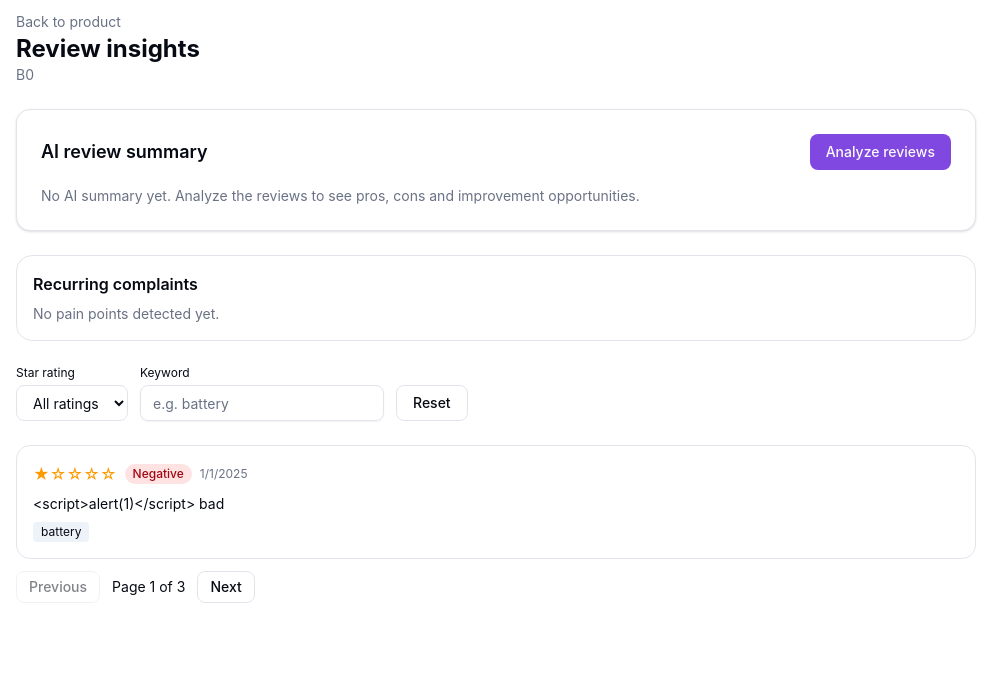
ReviewsPage › analyze flow renders the summary and switches to Re-analyze
What coordinates should you click on to do the following:
click the button "Analyze reviews"
I would click on:
 (880, 152)
Its box is [810,134,951,170].
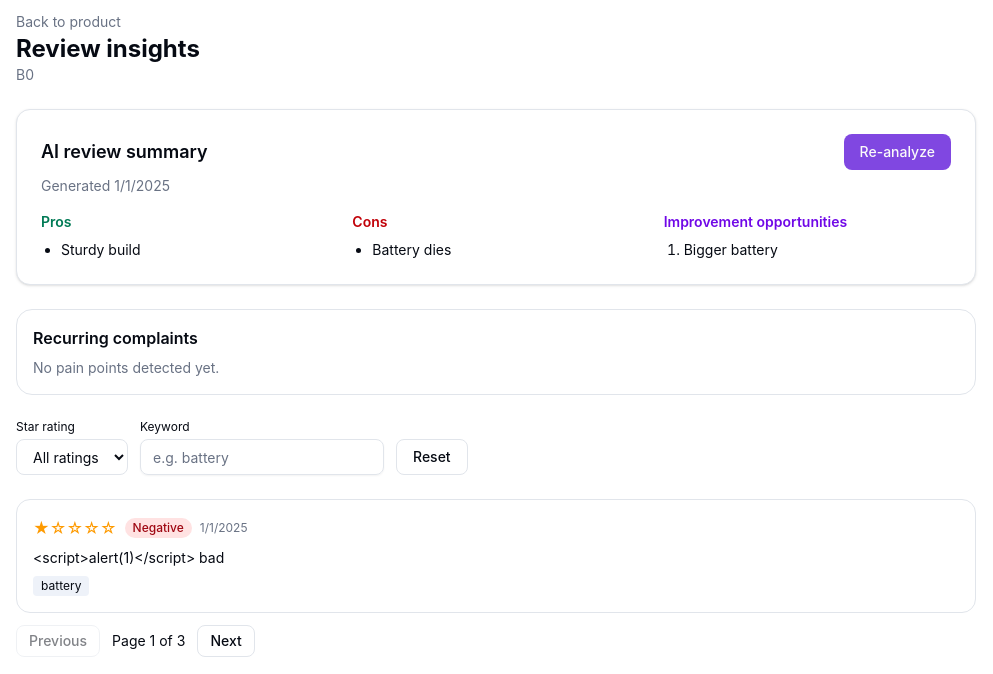
Expected: the list item "Sturdy build" is shown, [61,241,140,258]
Expected: the list item "Battery dies" is shown, [372,241,451,258]
Expected: the list item "Bigger battery" is shown, [684,241,778,258]
